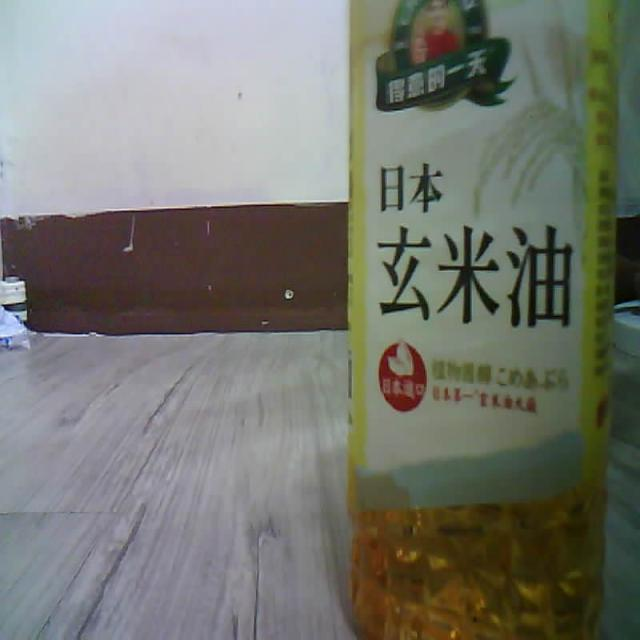bottle: (347, 0, 617, 639)
